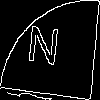N: (24, 25, 61, 75)
